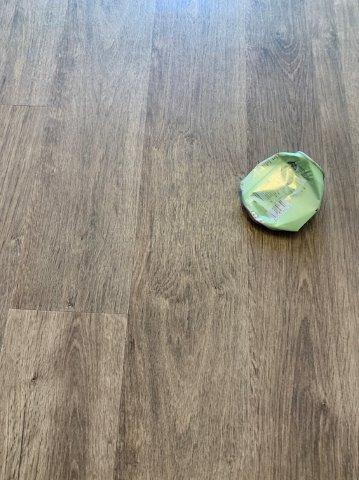kaleng: (240, 152, 325, 231)
